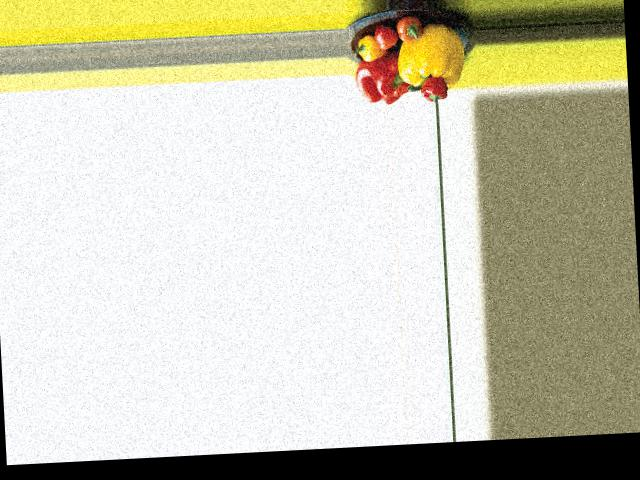bell_pepper: (354, 35, 383, 63)
